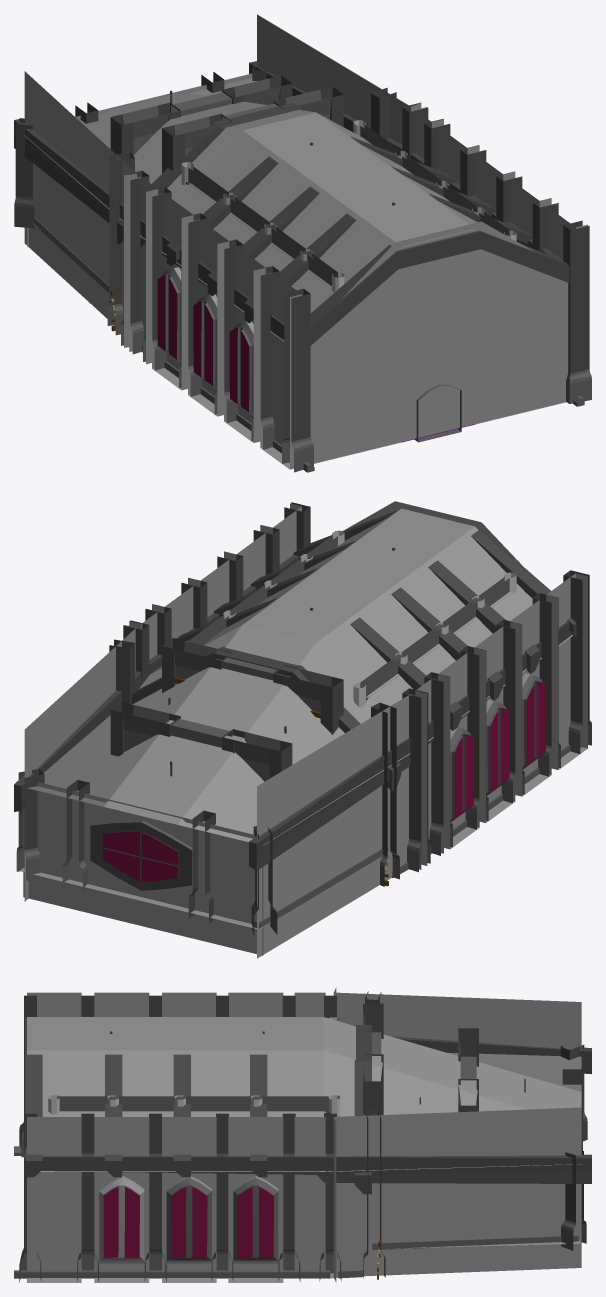
File: mesh_interoir of churhc.fbx
The picture shows the model from 3 angles, top to bottom: view 1: azimuth 30°, elevation 25°; view 2: azimuth 150°, elevation 25°; view 3: azimuth 270°, elevation 25°; orthographic projection. The views are drawn at different scales.
Visible parts, largest first — view 1: pCube155; view 2: pCube155; view 3: pCube155.
Boxes of the visible parts, x1,y1,x2,y2 form: pCube155: (14, 14, 591, 472); pCube155: (14, 501, 591, 958); pCube155: (14, 987, 591, 1282).
Size of the model in its own units: 14807 by 9683 by 26725.
Materials: 2 (1 with a texture image).
